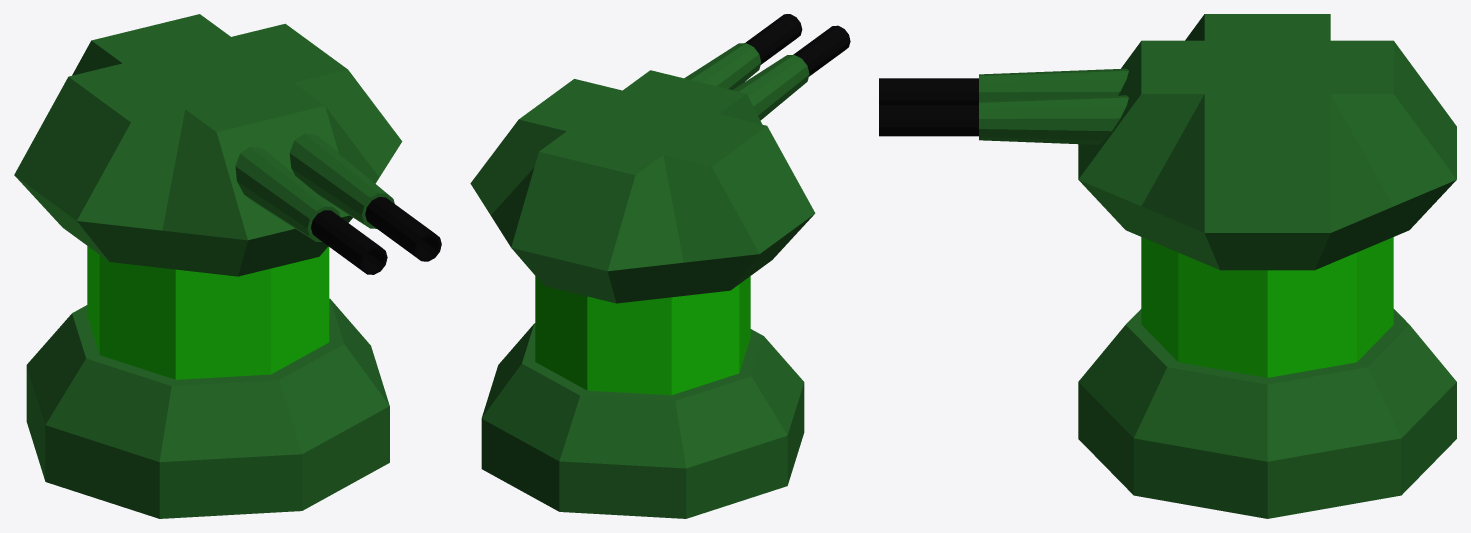
File: Turret1_3.glb
The picture shows the model from 3 angles, left to right: view 1: azimuth 30°, elevation 25°; view 2: azimuth 150°, elevation 25°; view 3: azimuth 270°, elevation 25°; orthographic projection. The views are drawn at different scales.
Parts seen in each view (by area): view 1: TurretUpgradePath1_3; view 2: TurretUpgradePath1_3; view 3: TurretUpgradePath1_3.
Part boxes in pixels (x1=…): TurretUpgradePath1_3: x1=14, y1=14, x2=441, y2=518; TurretUpgradePath1_3: x1=470, y1=14, x2=850, y2=518; TurretUpgradePath1_3: x1=879, y1=14, x2=1456, y2=518.
Size of the model in its own units: 3 by 3.25 by 4.58.
